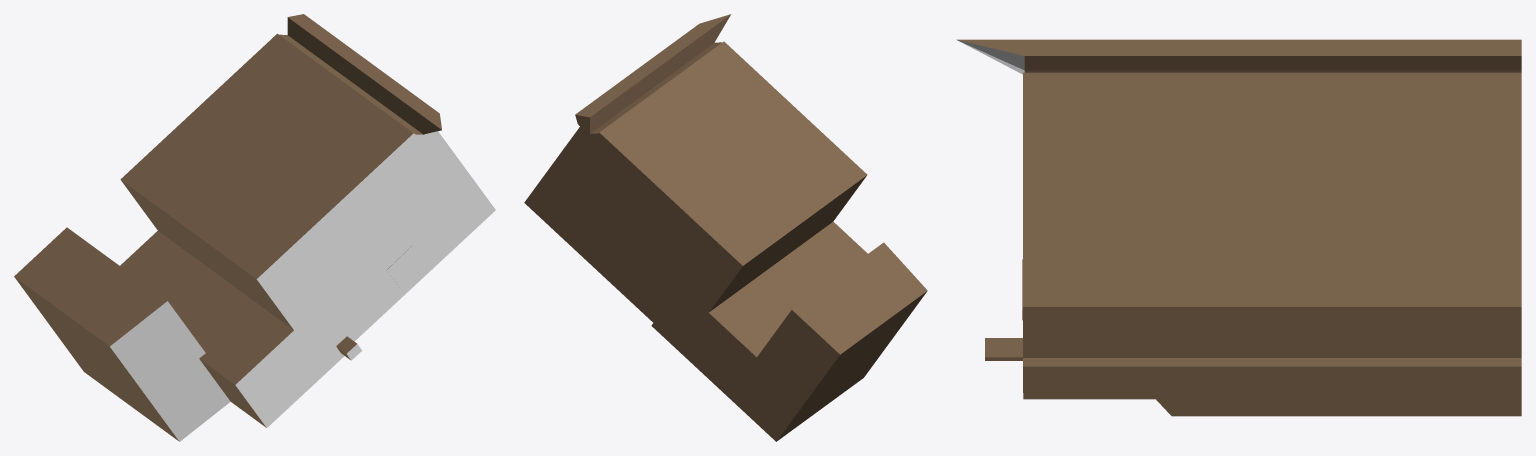
The picture shows the model from 3 angles, left to right: view 1: azimuth 30°, elevation 25°; view 2: azimuth 150°, elevation 25°; view 3: azimuth 270°, elevation 25°; orthographic projection. The views are drawn at different scales.
Parts seen in each view (by area): view 1: City_2316702; view 2: City_2316702; view 3: City_2316702.
Boxes of the visible parts, <box> form: City_2316702: <box>14,14,495,441</box>; City_2316702: <box>524,14,927,441</box>; City_2316702: <box>956,39,1521,416</box>.
Size of the model in its own units: 2320 by 1957 by 1797.
